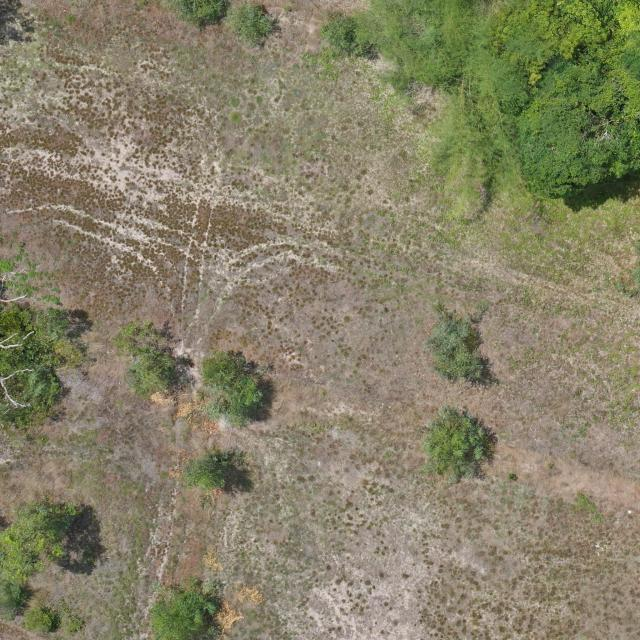tree: (0, 238, 91, 436), (514, 64, 640, 200), (110, 319, 192, 403), (0, 500, 85, 580), (196, 348, 276, 428), (418, 403, 491, 487), (426, 300, 491, 385), (148, 578, 225, 640), (180, 446, 250, 496), (492, 68, 534, 115)
